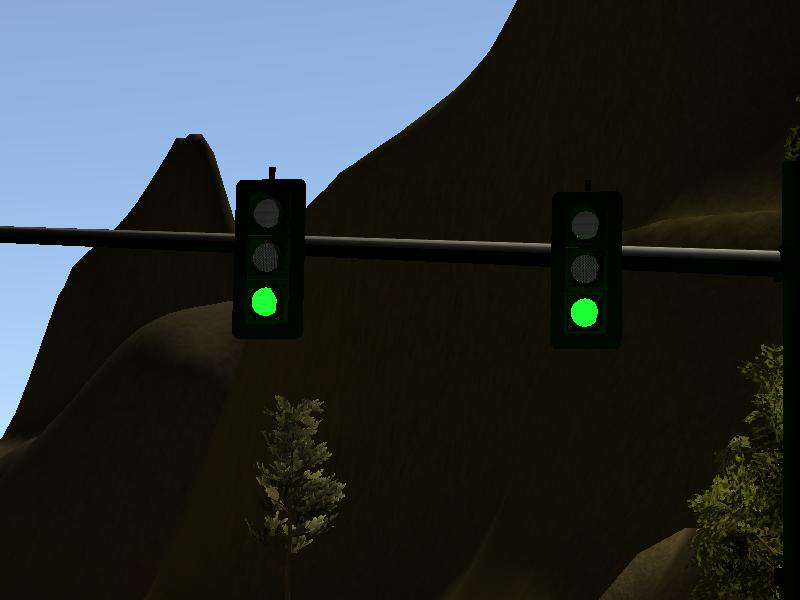green: (239, 181, 306, 338), (554, 190, 620, 349)
